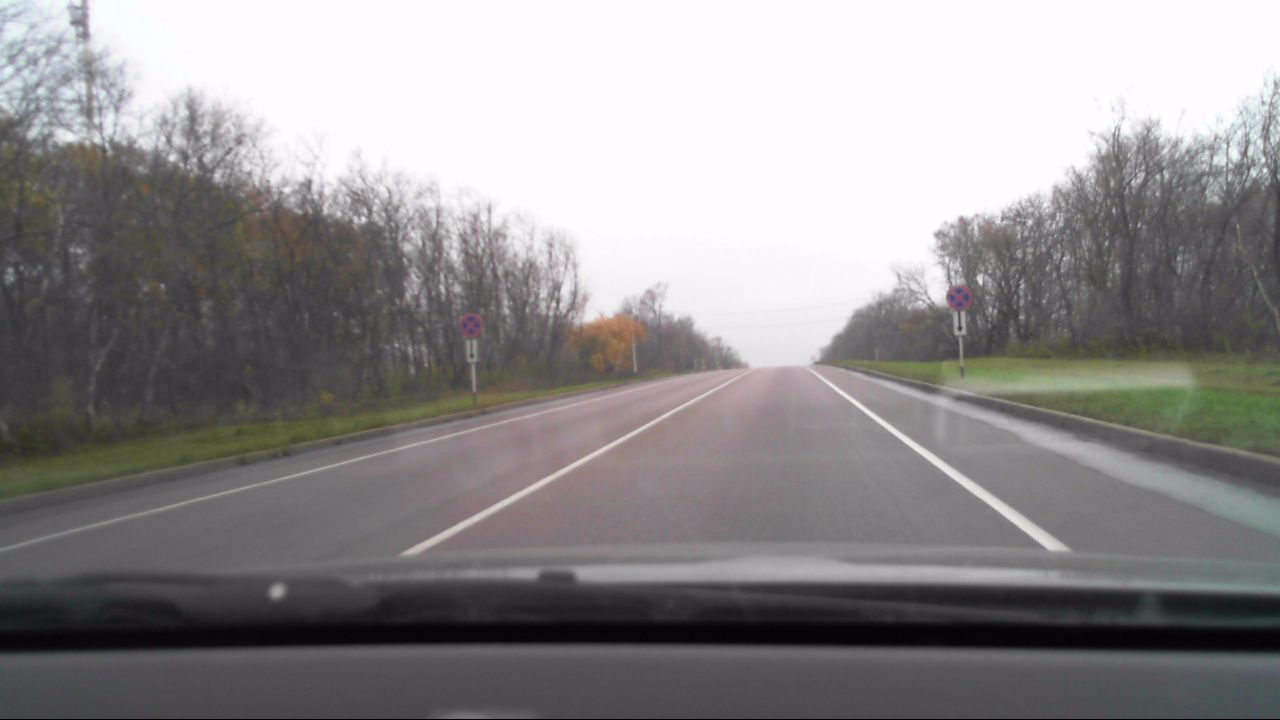No Parking: (944, 284, 971, 310)
